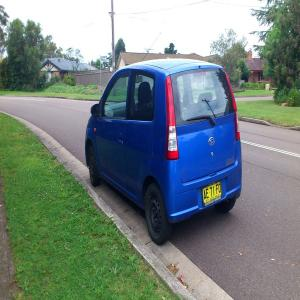Vehicle-registration-plate: (204, 182, 223, 210)
